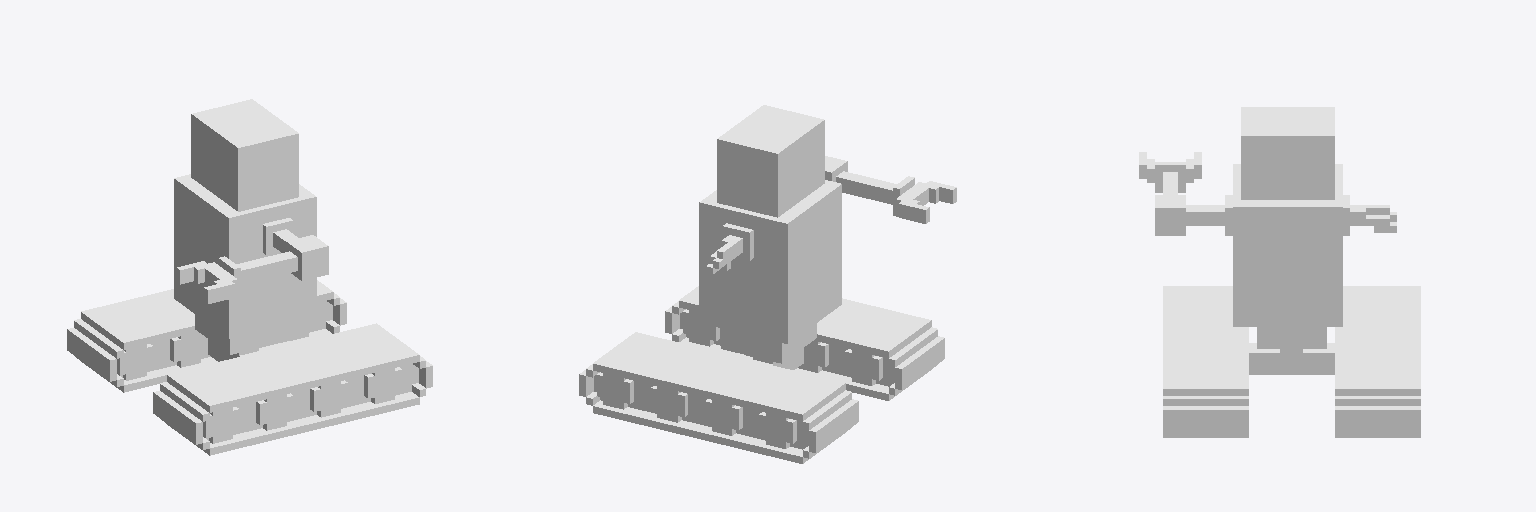
File: FortiBot.obj
3 views of the same model, side by side, from view 1: azimuth 30°, elevation 25°; view 2: azimuth 150°, elevation 25°; view 3: azimuth 270°, elevation 25° (orthographic).
Bounding box in the file's own units: 35 × 37 × 36.